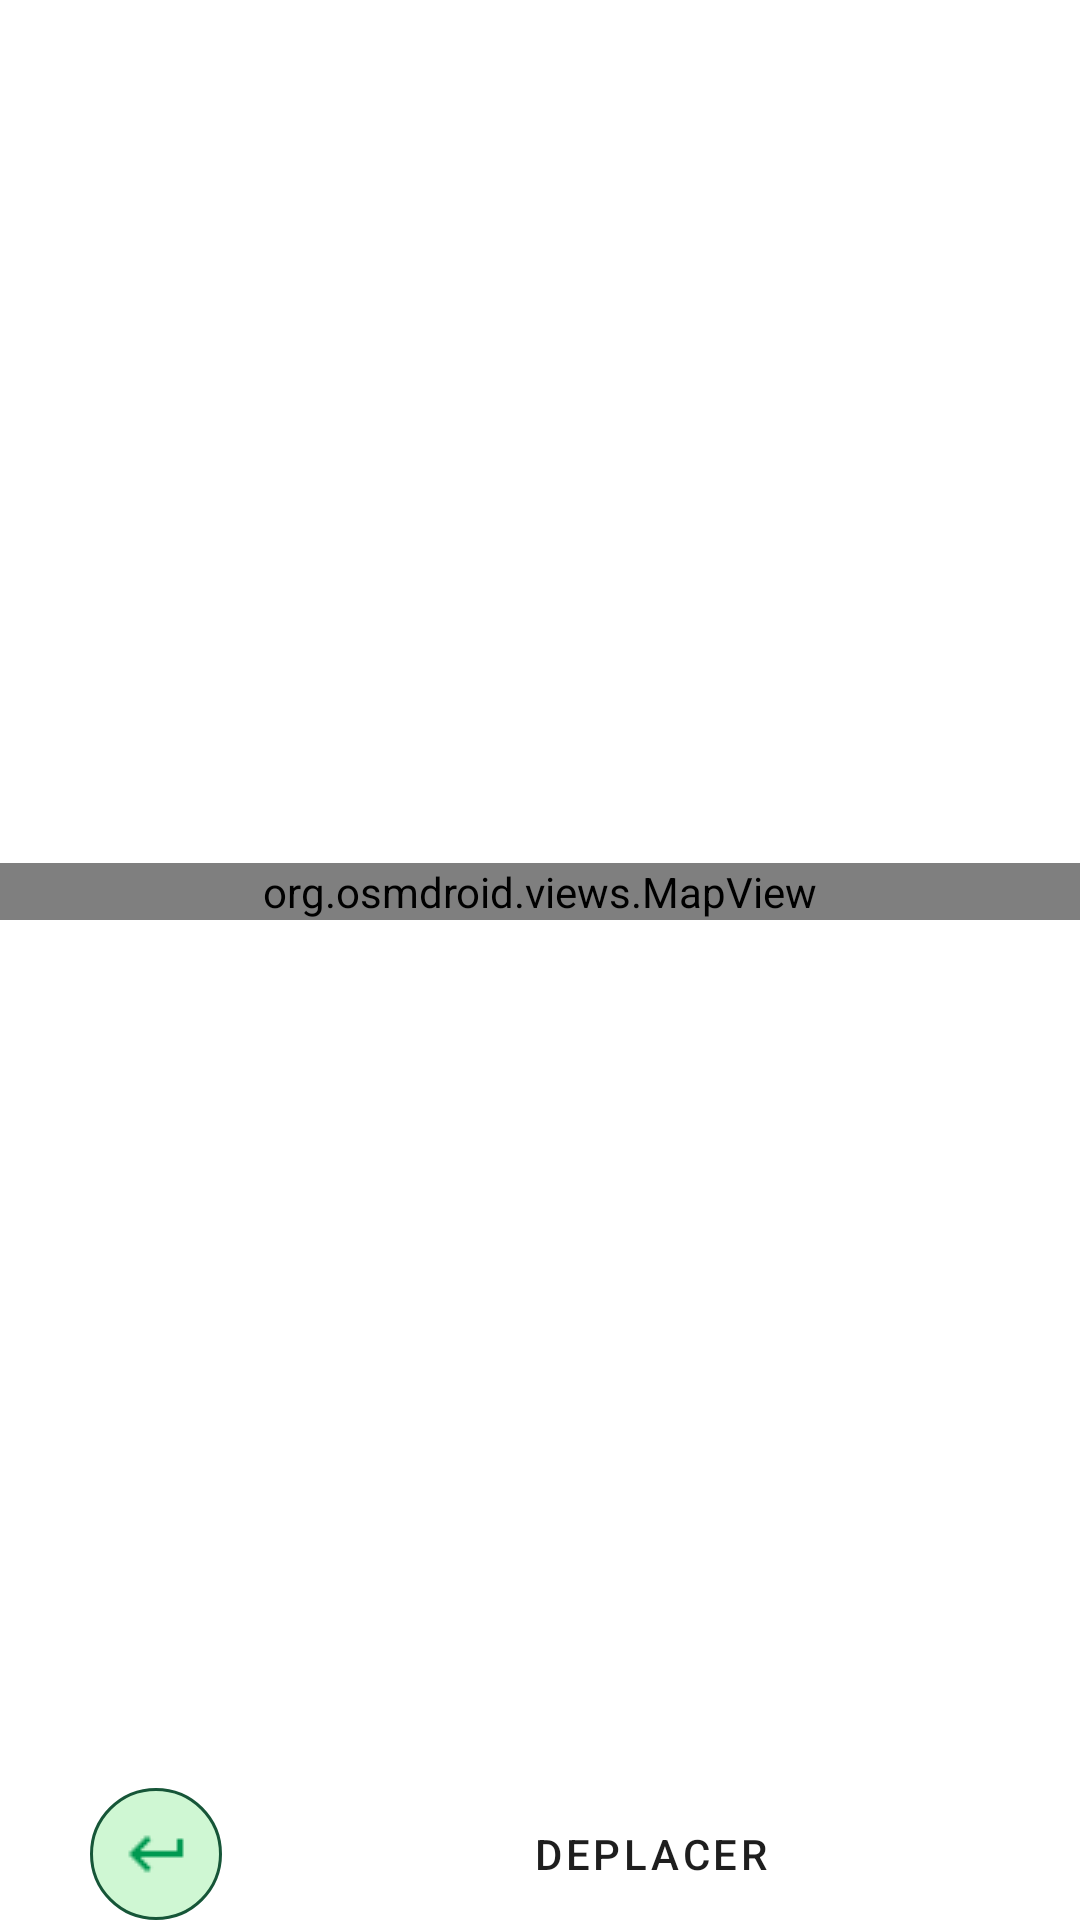

Icons on this 1080px x 1920px Android screen, each with the point to tap as [x,y]:
return: [156,1854]
